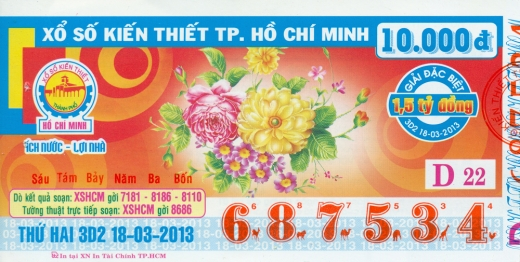serial_zone: (213, 197, 503, 251)
